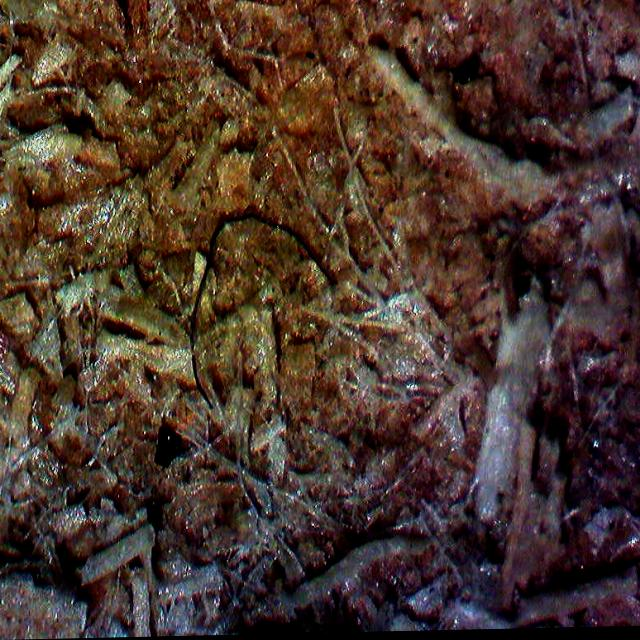microplastic: (190, 213, 336, 411)
